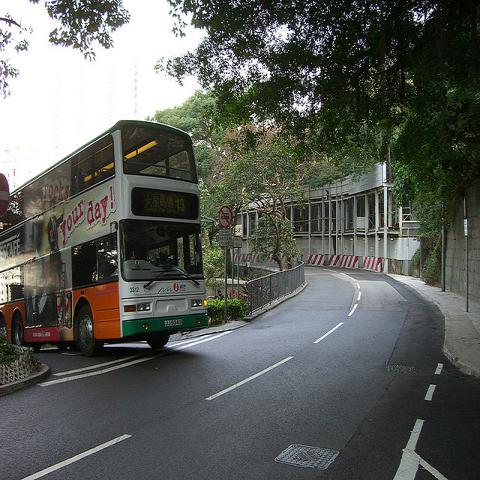bus: (0, 121, 213, 358)
